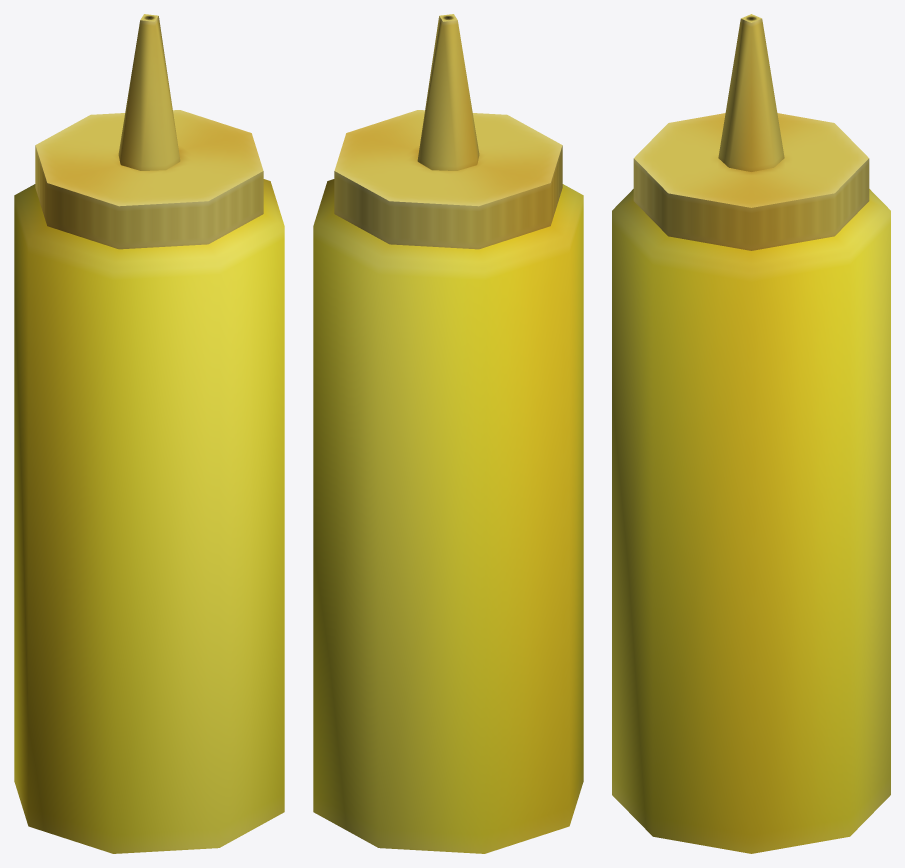
File: jsf_Mustard_01.fbx
The picture shows the model from 3 angles, left to right: view 1: azimuth 30°, elevation 25°; view 2: azimuth 150°, elevation 25°; view 3: azimuth 270°, elevation 25°; orthographic projection.
Parts seen in each view (by area): view 1: jsf_Mustard_01; view 2: jsf_Mustard_01; view 3: jsf_Mustard_01.
Part boxes in pixels (box(x1,y1,x2,y2)): jsf_Mustard_01: box(14, 14, 284, 853); jsf_Mustard_01: box(313, 14, 583, 853); jsf_Mustard_01: box(612, 14, 890, 853).
Bounding box in the file's own units: 6.9 × 21.21 × 6.9.
